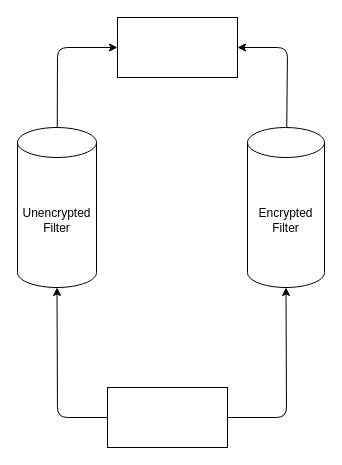
Image size: 342x465. Some labels were removed from this diagram. Here are the shapes that lost their labels. From the top down, the box of each, then its label:
(116, 16, 238, 78): Rest of system
(106, 386, 228, 448): Firestore Database
